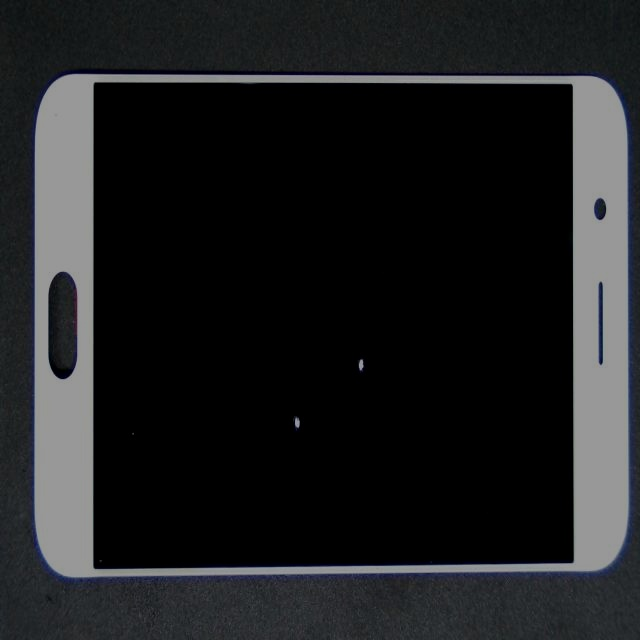stain: (171, 92, 523, 505), (164, 214, 452, 611)
